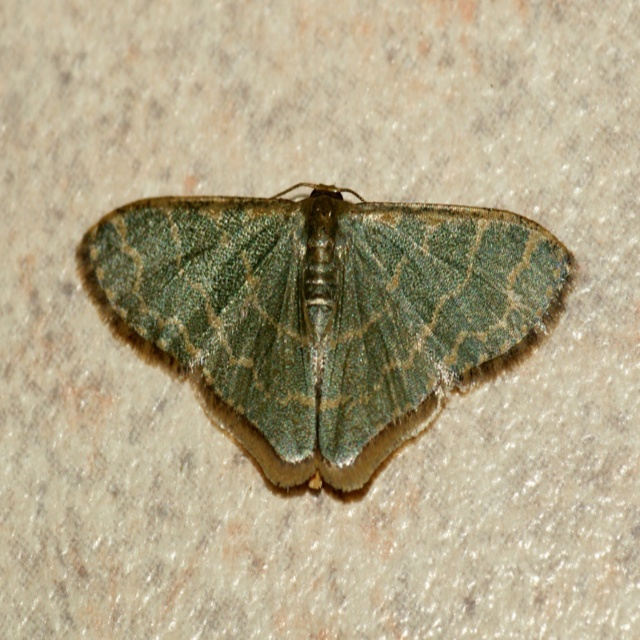Butterfly: (108, 161, 547, 527)
